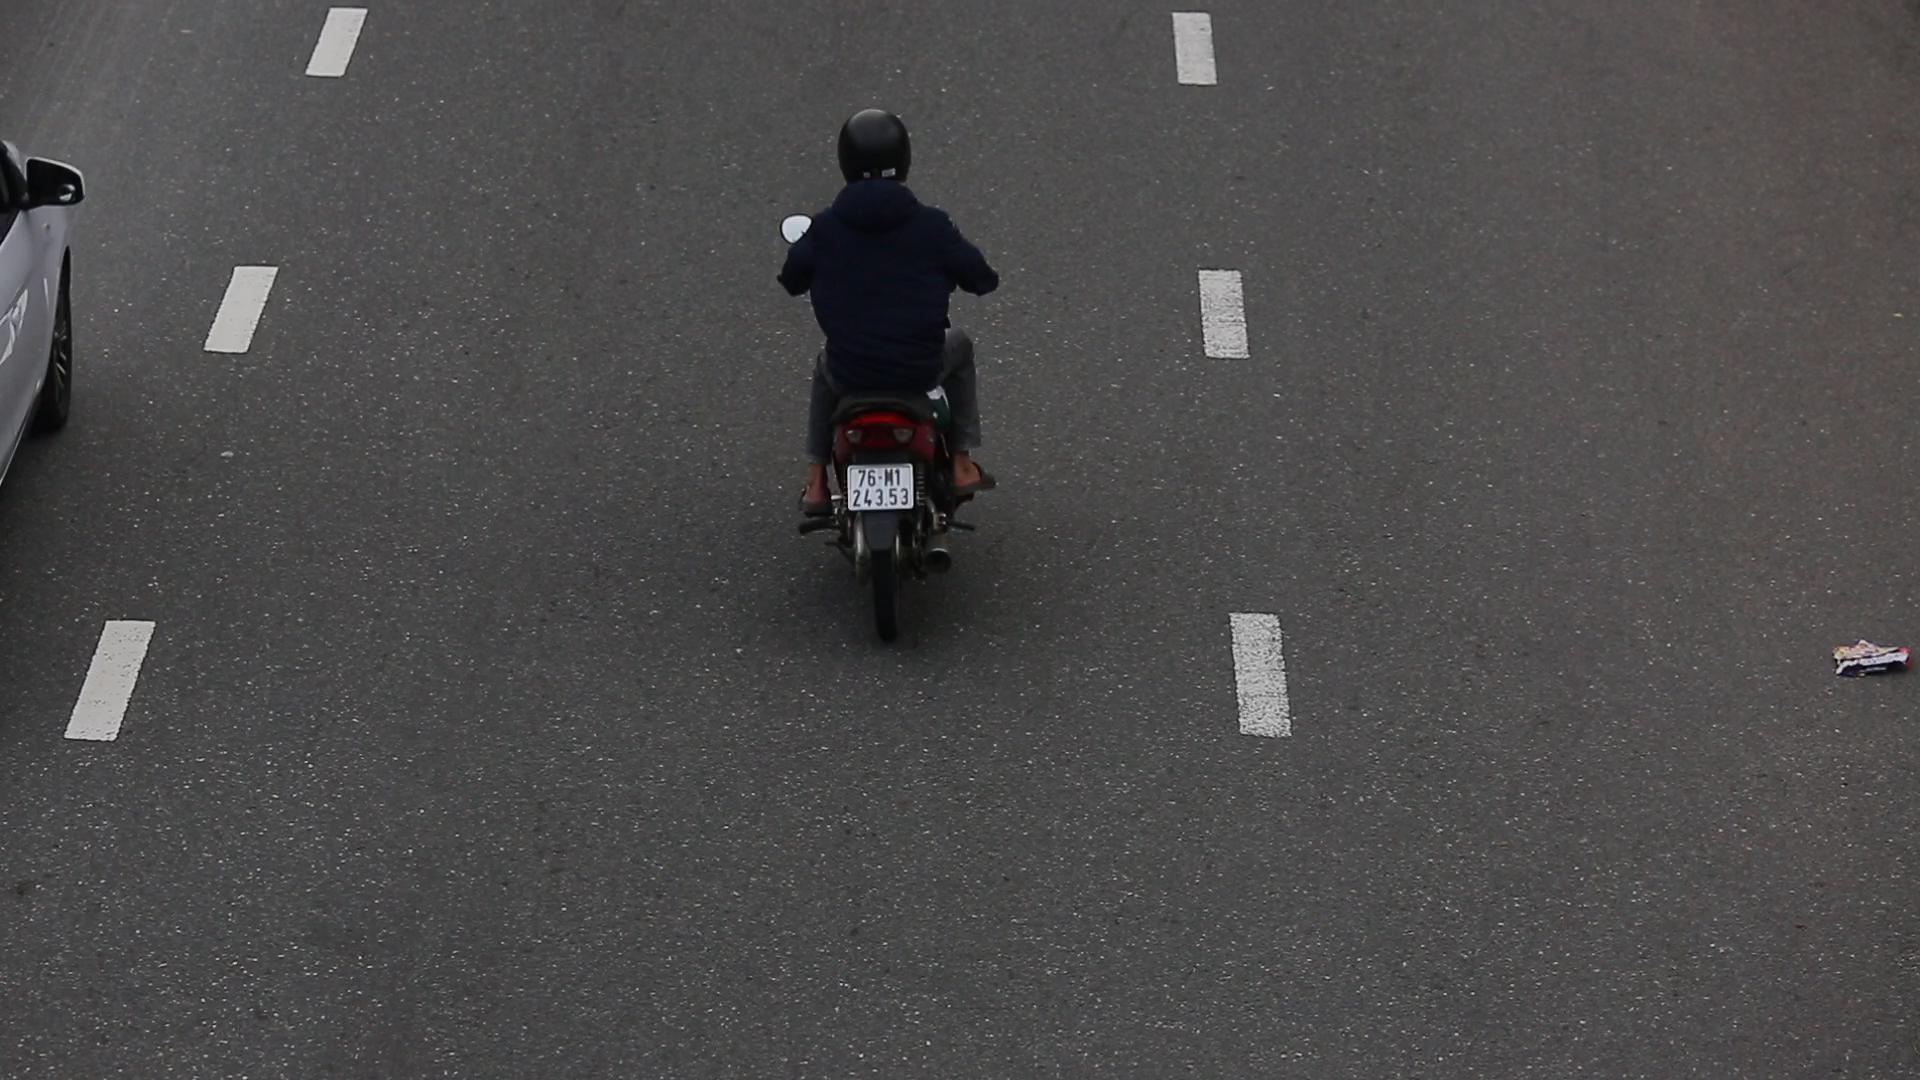motobike: (744, 86, 1025, 667)
